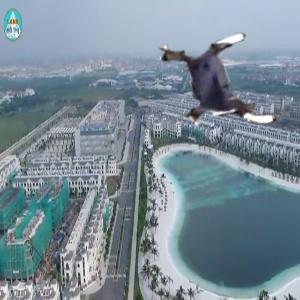drone: (157, 24, 279, 146)
